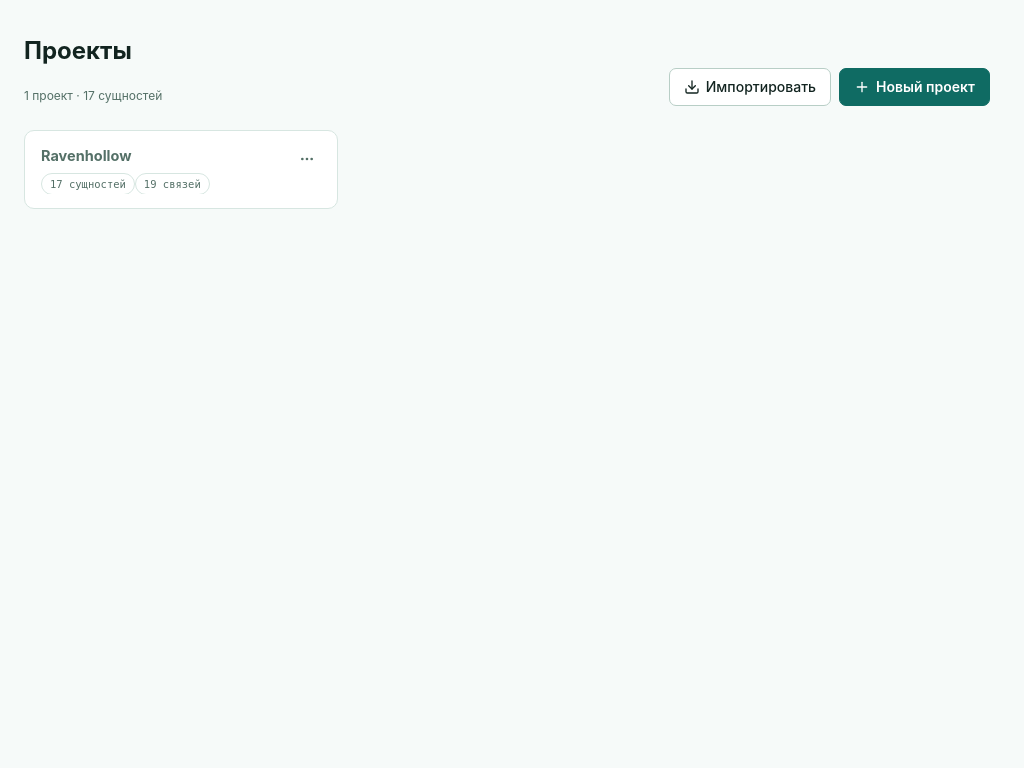
ProjectListPage › opens the create dialog from the header button without shifting the list
The width and height of the screenshot is (1024, 768).
Click the button "Новый проект" at {"x": 914, "y": 87}, box [839,68,990,106]
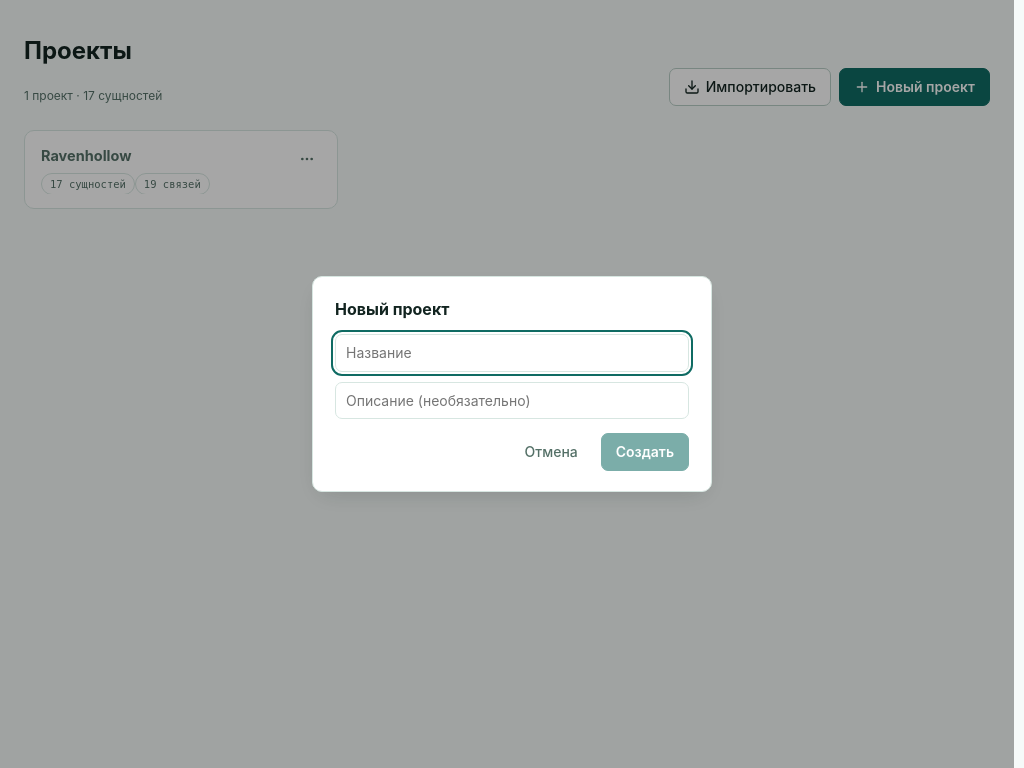
expect the heading "Ravenhollow" is shown: met, box [41,147,132,164]
expect the dialog is shown: met, box [312,276,712,492]
